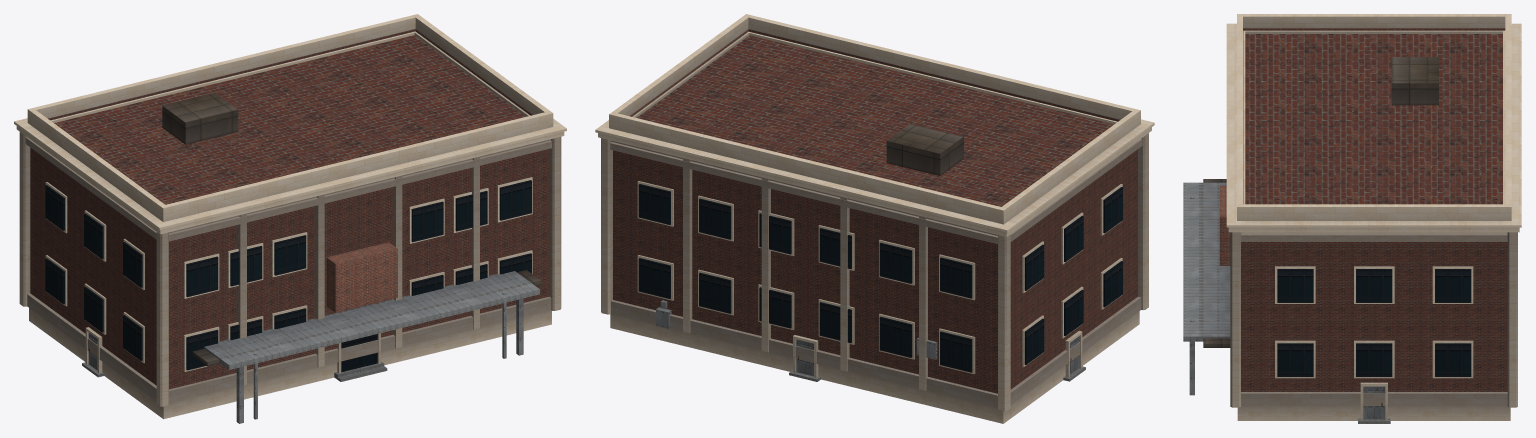
File: ironworks-freight-office_lod0.gltf
The picture shows the model from 3 angles, left to right: view 1: azimuth 30°, elevation 25°; view 2: azimuth 150°, elevation 25°; view 3: azimuth 270°, elevation 25°; orthographic projection.
Parts seen in each view (by area): view 1: ironworks-freight-office_upper, ironworks-freight-office__v4_stone_detail, ironworks-freight-office_fen_07-glass-curtain-blue_1_t, ironworks-freight-office__platform_canopy, ironworks-freight-office_base, ironworks-freight-office_fen_04-limestone_0, ironworks-freight-office__cornice, ironworks-freight-office__bay_window, ironworks-freight-office__v4_metal_detail, ironworks-freight-office__parapet_back, ironworks-freight-office_fen_06-granite_3; view 2: ironworks-freight-office_upper, ironworks-freight-office__v4_stone_detail, ironworks-freight-office_fen_07-glass-curtain-blue_1_t, ironworks-freight-office_base, ironworks-freight-office_fen_04-limestone_0, ironworks-freight-office__cornice, ironworks-freight-office__v4_metal_detail, ironworks-freight-office__parapet_front, ironworks-freight-office_fen_14-steel-panel_4; view 3: ironworks-freight-office_upper, ironworks-freight-office__v4_stone_detail, ironworks-freight-office_fen_07-glass-curtain-blue_1_t, ironworks-freight-office__platform_canopy, ironworks-freight-office_base, ironworks-freight-office_fen_04-limestone_0, ironworks-freight-office__v4_metal_detail, ironworks-freight-office__cornice, ironworks-freight-office__bay_window, ironworks-freight-office__parapet_left, ironworks-freight-office_fen_14-steel-panel_4, ironworks-freight-office__canopy_post_b.
Part boxes in pixels (left/top/right/bottom): ironworks-freight-office_upper: left=30, top=35, right=549, bottom=389; ironworks-freight-office__v4_stone_detail: left=14, top=14, right=566, bottom=406; ironworks-freight-office_fen_07-glass-curtain-blue_1_t: left=45, top=180, right=531, bottom=372; ironworks-freight-office__platform_canopy: left=204, top=271, right=539, bottom=369; ironworks-freight-office_base: left=29, top=308, right=551, bottom=419; ironworks-freight-office_fen_04-limestone_0: left=45, top=177, right=532, bottom=373; ironworks-freight-office__cornice: left=25, top=137, right=551, bottom=241; ironworks-freight-office__bay_window: left=326, top=242, right=397, bottom=312; ironworks-freight-office__v4_metal_detail: left=162, top=93, right=541, bottom=366; ironworks-freight-office__parapet_back: left=48, top=29, right=415, bottom=120; ironworks-freight-office_fen_06-granite_3: left=82, top=361, right=387, bottom=381; ironworks-freight-office_upper: left=613, top=35, right=1137, bottom=393; ironworks-freight-office__v4_stone_detail: left=595, top=14, right=1154, bottom=411; ironworks-freight-office_fen_07-glass-curtain-blue_1_t: left=638, top=184, right=1122, bottom=372; ironworks-freight-office_base: left=610, top=311, right=1139, bottom=423; ironworks-freight-office_fen_04-limestone_0: left=637, top=181, right=1122, bottom=377; ironworks-freight-office__cornice: left=610, top=138, right=1142, bottom=244; ironworks-freight-office__v4_metal_detail: left=886, top=123, right=963, bottom=175; ironworks-freight-office__parapet_front: left=748, top=29, right=1119, bottom=121; ironworks-freight-office_fen_14-steel-panel_4: left=656, top=300, right=1079, bottom=376; ironworks-freight-office_upper: left=1241, top=34, right=1507, bottom=391; ironworks-freight-office__v4_stone_detail: left=1226, top=14, right=1521, bottom=407; ironworks-freight-office_fen_07-glass-curtain-blue_1_t: left=1277, top=269, right=1471, bottom=376; ironworks-freight-office__platform_canopy: left=1183, top=182, right=1230, bottom=341; ironworks-freight-office_base: left=1237, top=406, right=1510, bottom=420; ironworks-freight-office_fen_04-limestone_0: left=1275, top=266, right=1473, bottom=420; ironworks-freight-office__v4_metal_detail: left=1203, top=57, right=1438, bottom=347; ironworks-freight-office__cornice: left=1241, top=233, right=1507, bottom=241; ironworks-freight-office__bay_window: left=1219, top=185, right=1230, bottom=265; ironworks-freight-office__parapet_left: left=1243, top=28, right=1505, bottom=30; ironworks-freight-office_fen_14-steel-panel_4: left=1363, top=386, right=1385, bottom=419; ironworks-freight-office__canopy_post_b: left=1189, top=341, right=1194, bottom=395.
Bounding box in the file's own units: 26.22 × 13.35 × 18.61.
